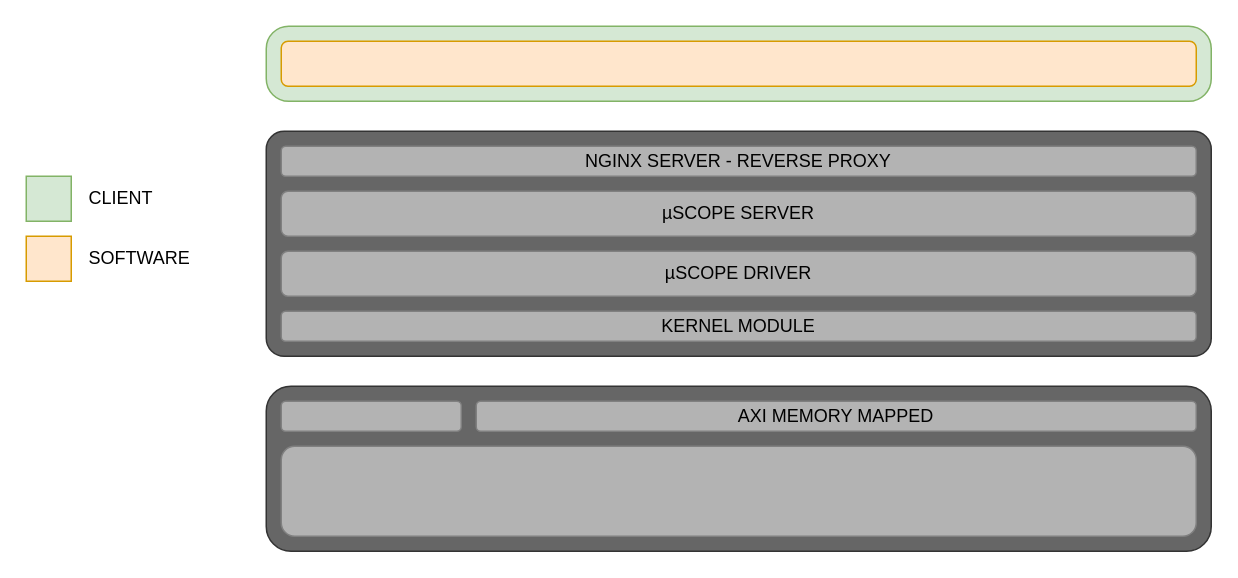
This 1238x578 diagram has some shape labels left out. The shapes that lost their labels are listed below. From the top down, each one's centre as x and y in pixels, then its label:
At [738,63]: "REACT WEB APP".
At [370,415]: "AXI STREAM DMA".
At [738,490]: "HDL IP COLLECTION".
